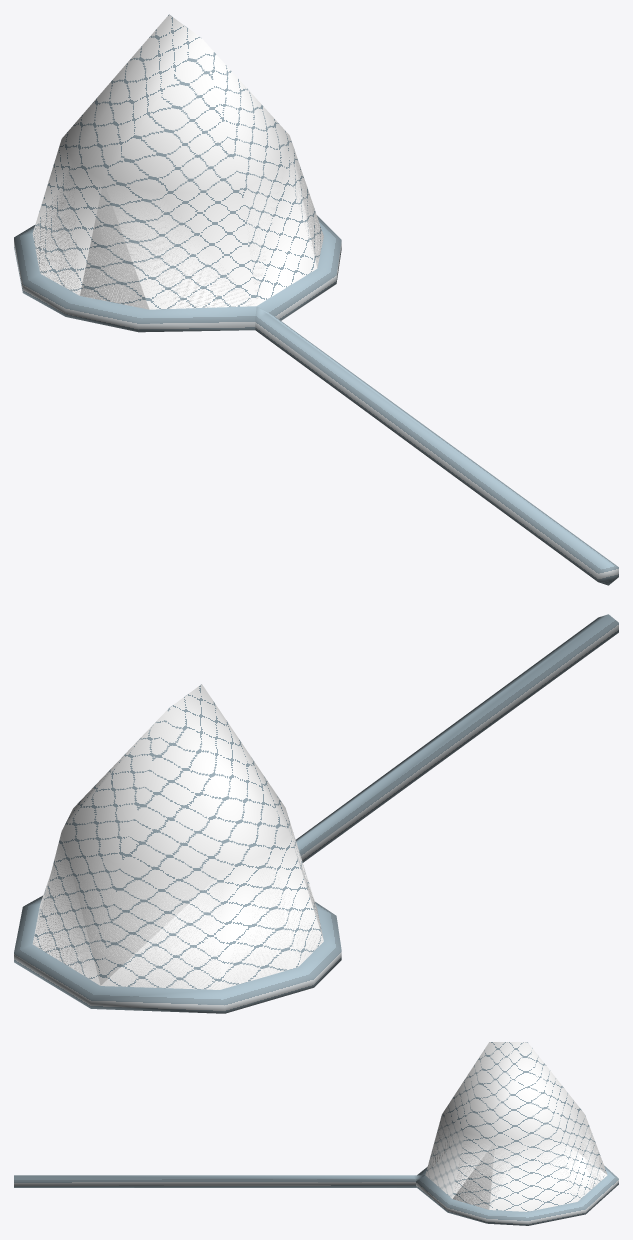
Rendered from net.obj.
3 views of the same model, one above another, from view 1: azimuth 30°, elevation 25°; view 2: azimuth 150°, elevation 25°; view 3: azimuth 270°, elevation 25° (orthographic). The views are drawn at different scales.
Parts seen in each view (by area): view 1: Net; view 2: Net; view 3: Net.
Boxes of the visible parts, left/top/right/bottom form: Net: left=14, top=14, right=618, bottom=585; Net: left=14, top=614, right=618, bottom=1013; Net: left=14, top=1042, right=618, bottom=1225.
Bounding box in the file's own units: 1.42 × 1.16 × 4.36.
3 materials, 3 textured.
